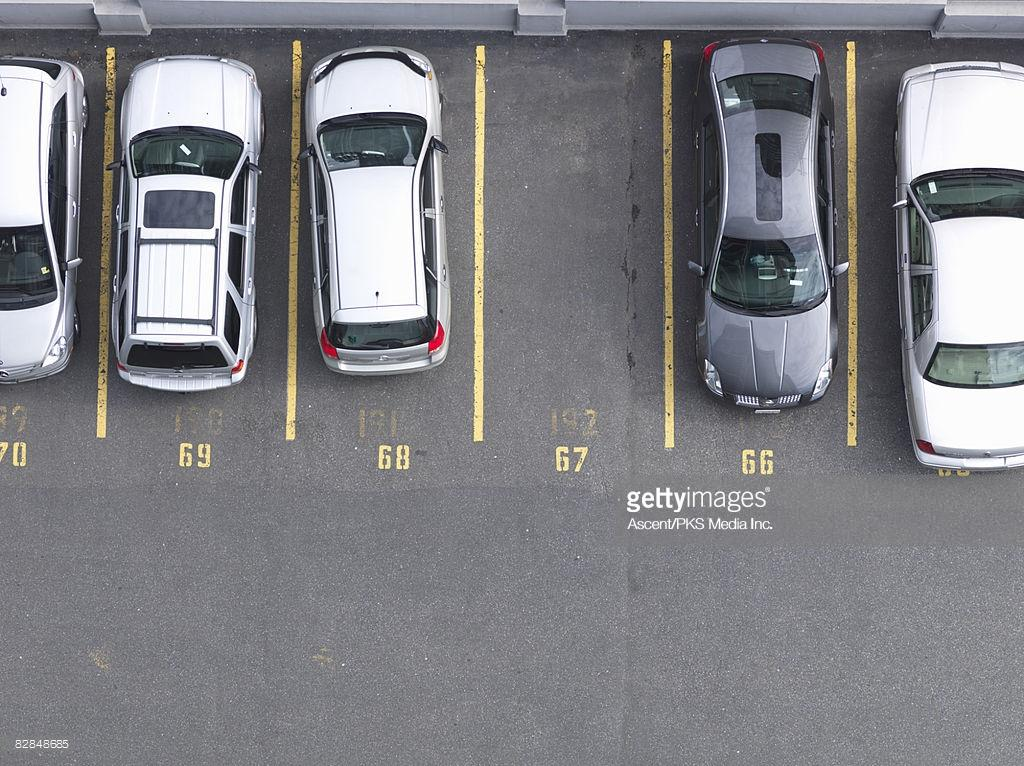car: (686, 34, 846, 407), (884, 51, 1021, 477), (295, 48, 465, 368), (113, 56, 270, 387), (5, 49, 83, 383)
empty space: (472, 47, 678, 458)
